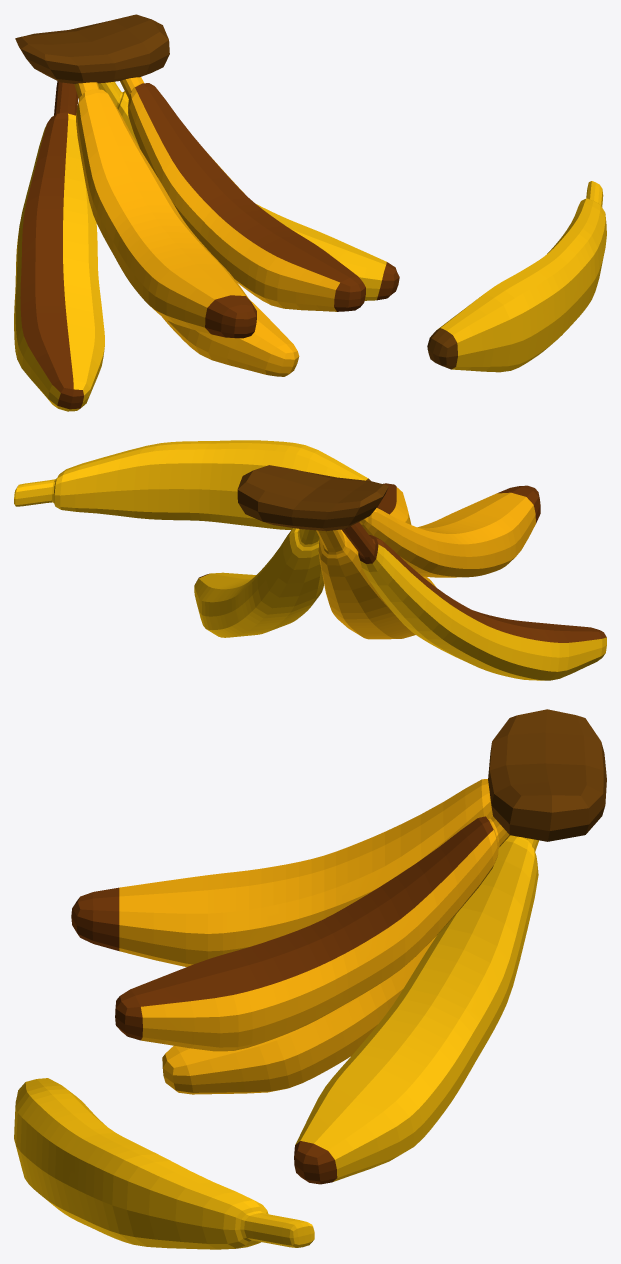
Rendered from Bananas.fbx.
The picture shows the model from 3 angles, top to bottom: view 1: azimuth 30°, elevation 25°; view 2: azimuth 150°, elevation 25°; view 3: azimuth 270°, elevation 25°; orthographic projection. The views are drawn at different scales.
Parts seen in each view (by area): view 1: Cube.001, Cube.033, Cube.029, Cube.004, Cube.003, Cube.031, Cube.007, Cube.005, Cube.006, Cube.030, Cube.034, Cube.032; view 2: Cube.033, Cube.004, Cube.001, Cube.006, Cube.007, Cube.005, Cube.029, Cube.030, Cube.003, Cube.031; view 3: Cube.006, Cube.033, Cube.001, Cube.003, Cube.031, Cube.007, Cube.005, Cube.030, Cube.032.
Part boxes in pixels (x1,y1,x2,y2): Cube.001: (74, 82, 250, 334); Cube.033: (437, 181, 606, 372); Cube.029: (20, 81, 83, 409); Cube.004: (14, 113, 104, 411); Cube.003: (120, 77, 339, 311); Cube.031: (135, 83, 365, 311); Cube.007: (15, 14, 169, 83); Cube.005: (162, 300, 299, 376); Cube.006: (98, 81, 386, 300); Cube.030: (205, 295, 256, 338); Cube.034: (427, 328, 457, 369); Cube.032: (377, 262, 399, 300); Cube.033: (14, 440, 367, 529); Cube.004: (358, 544, 606, 680); Cube.001: (359, 492, 535, 577); Cube.006: (194, 528, 323, 637); Cube.007: (237, 465, 388, 531); Cube.005: (316, 529, 436, 639); Cube.029: (341, 522, 606, 642); Cube.030: (497, 485, 540, 523); Cube.003: (341, 487, 411, 529); Cube.031: (377, 483, 396, 514); Cube.006: (295, 835, 539, 1181); Cube.033: (14, 1078, 314, 1249); Cube.001: (119, 779, 492, 966); Cube.003: (141, 816, 510, 1051); Cube.031: (115, 816, 493, 1040); Cube.007: (488, 709, 606, 841); Cube.005: (162, 935, 436, 1094); Cube.030: (71, 887, 119, 950); Cube.032: (294, 1141, 337, 1184).
Size of the model in its own units: 500 by 210 by 354.
1 material, 1 textured.
